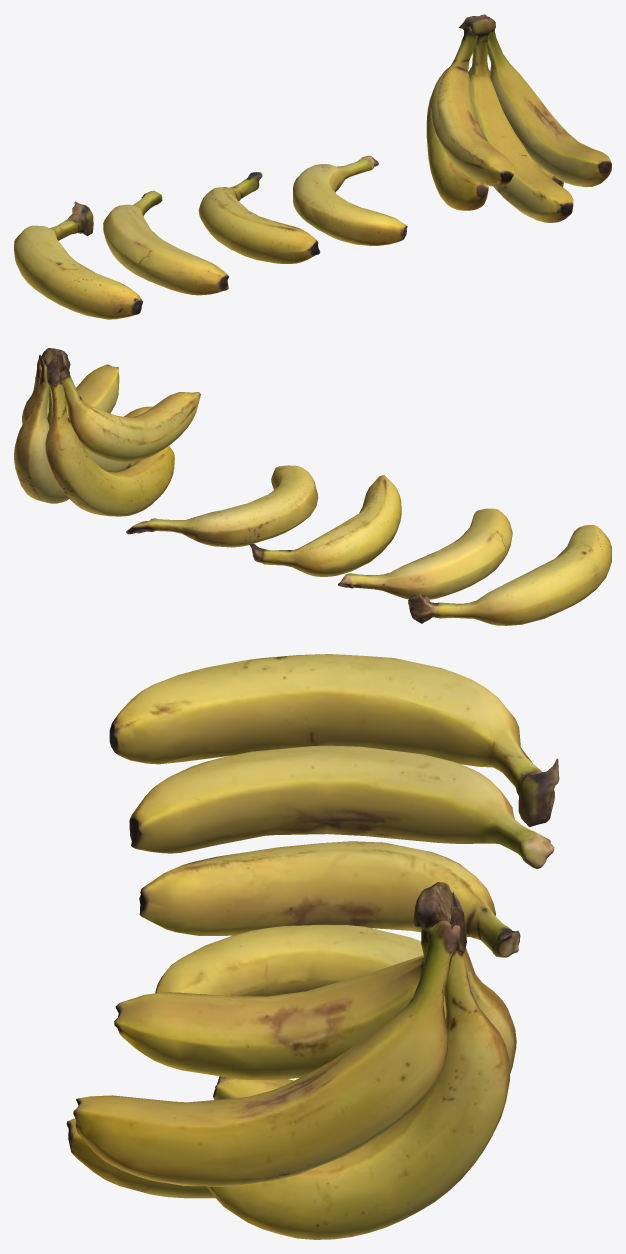
Rendered from bananas.glb.
3 renders of one model, top to bottom at view 1: azimuth 30°, elevation 25°; view 2: azimuth 150°, elevation 25°; view 3: azimuth 270°, elevation 25°, orthographic. The views are drawn at different scales.
Visible parts, largest first — view 1: bananas_bunch, bananas_d, bananas_c, bananas_a, bananas_b; view 2: bananas_bunch, bananas_d, bananas_c, bananas_a, bananas_b; view 3: bananas_bunch, bananas_d, bananas_c, bananas_b, bananas_a.
Part boxes in pixels (x1,y1,x2,y2): bananas_bunch: [426, 14, 611, 222]; bananas_d: [14, 201, 143, 319]; bananas_c: [103, 190, 229, 295]; bananas_a: [293, 155, 407, 245]; bananas_b: [198, 172, 320, 263]; bananas_bunch: [14, 348, 200, 516]; bananas_d: [408, 525, 611, 625]; bananas_c: [338, 508, 512, 599]; bananas_a: [126, 465, 318, 547]; bananas_b: [249, 475, 401, 576]; bananas_bunch: [66, 882, 516, 1239]; bananas_d: [109, 654, 559, 826]; bananas_c: [129, 745, 554, 868]; bananas_b: [139, 841, 520, 957]; bananas_a: [155, 925, 423, 996].
Bounding box in the file's own units: 0.6 × 0.1787 × 0.2441.
Materials: 1 (1 with a texture image).
